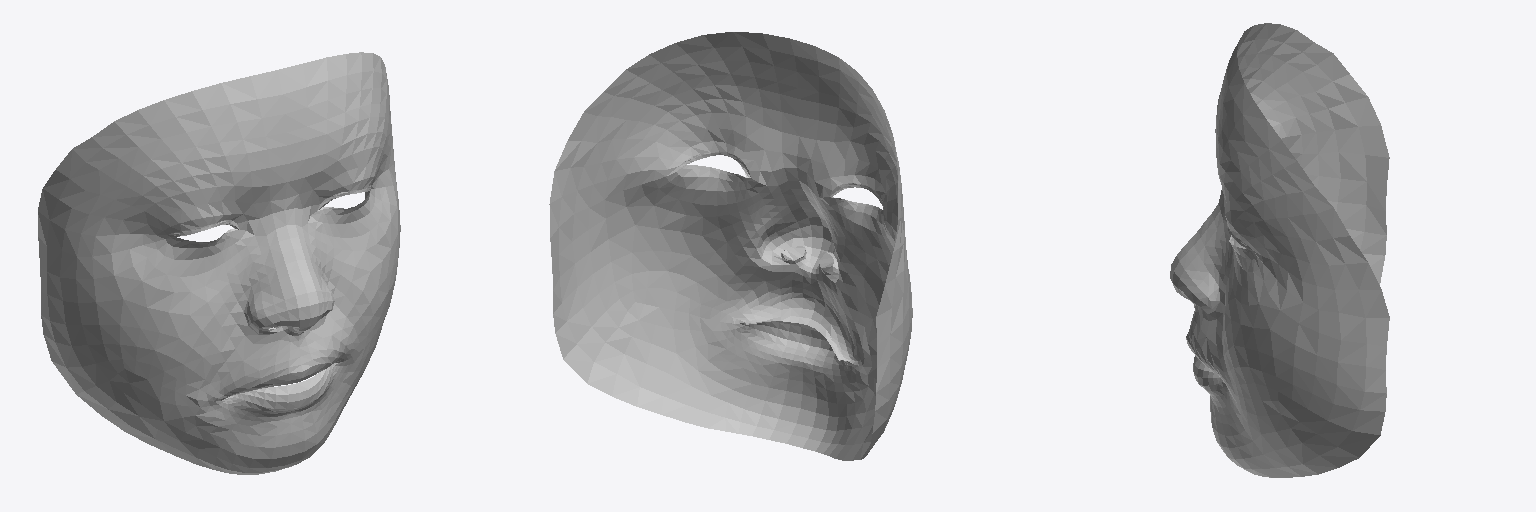
File: mouthFrown_R.obj
3 views of the same model, side by side, from view 1: azimuth 30°, elevation 25°; view 2: azimuth 150°, elevation 25°; view 3: azimuth 270°, elevation 25° (orthographic).
Visible parts, largest first — view 1: default; view 2: default; view 3: default.
Boxes of the visible parts, <box> form: default: <box>38,52,400,474</box>; default: <box>549,32,912,460</box>; default: <box>1170,23,1389,477</box>.
Size of the model in its own units: 0.1624 by 0.1851 by 0.0913.